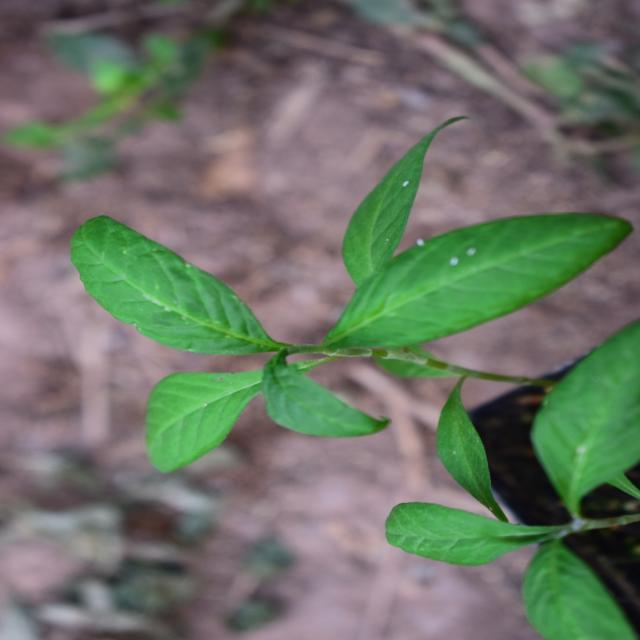white_smart_weed: (167, 43, 500, 609)
